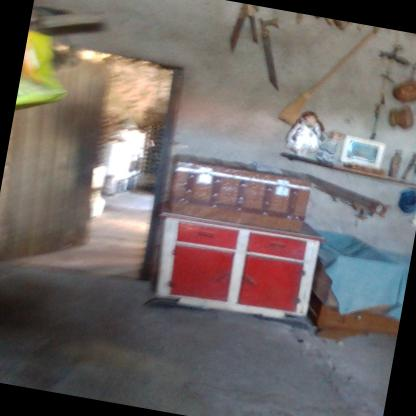semi: (0, 19, 204, 297)
